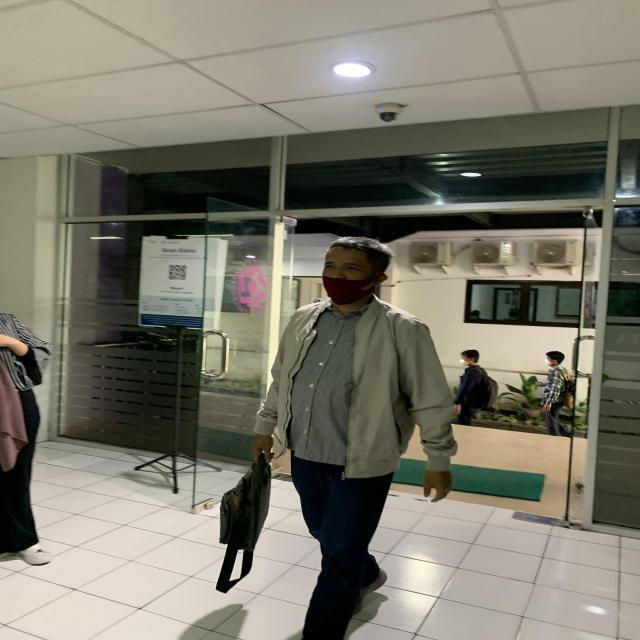hairnet: (316, 237, 388, 305)
